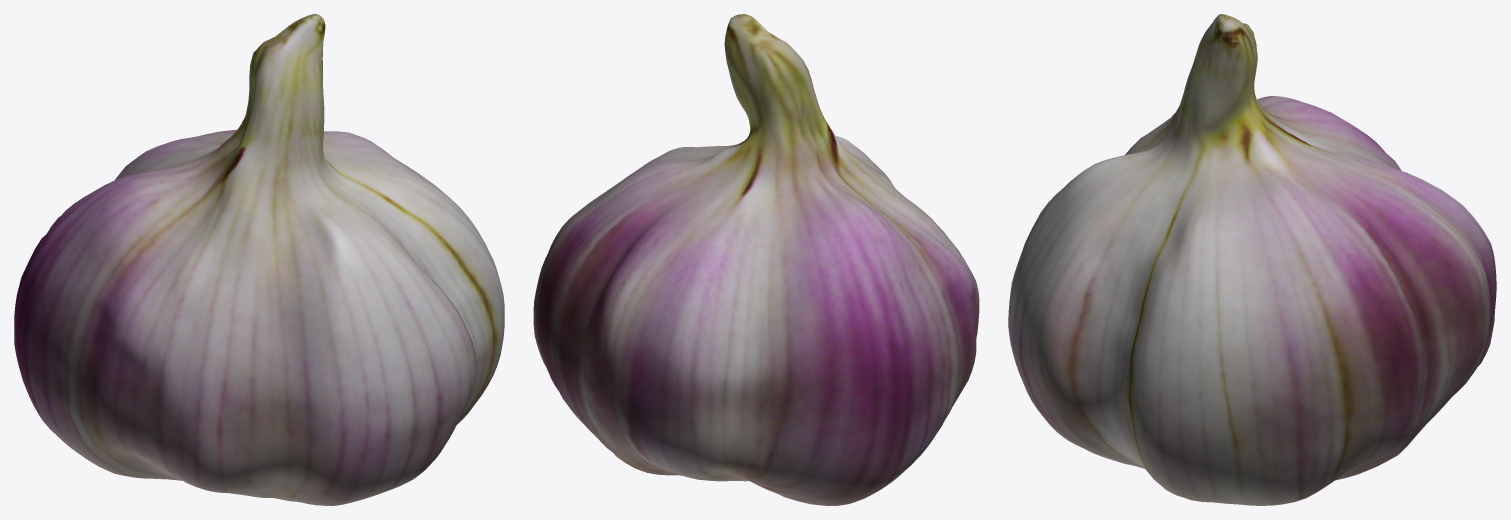
The model's file is garlic.obj.
3 views of the same model, side by side, from view 1: azimuth 30°, elevation 25°; view 2: azimuth 150°, elevation 25°; view 3: azimuth 270°, elevation 25° (orthographic). The views are drawn at different scales.
Visible parts, largest first — view 1: mesh; view 2: mesh; view 3: mesh.
Boxes of the visible parts, x1,y1,x2,y2 form: mesh: (14, 14, 504, 505); mesh: (533, 14, 979, 505); mesh: (1008, 14, 1496, 505).
Bounding box in the file's own units: 2.9 × 2.99 × 2.97.
Materials: 1 (1 with a texture image).
